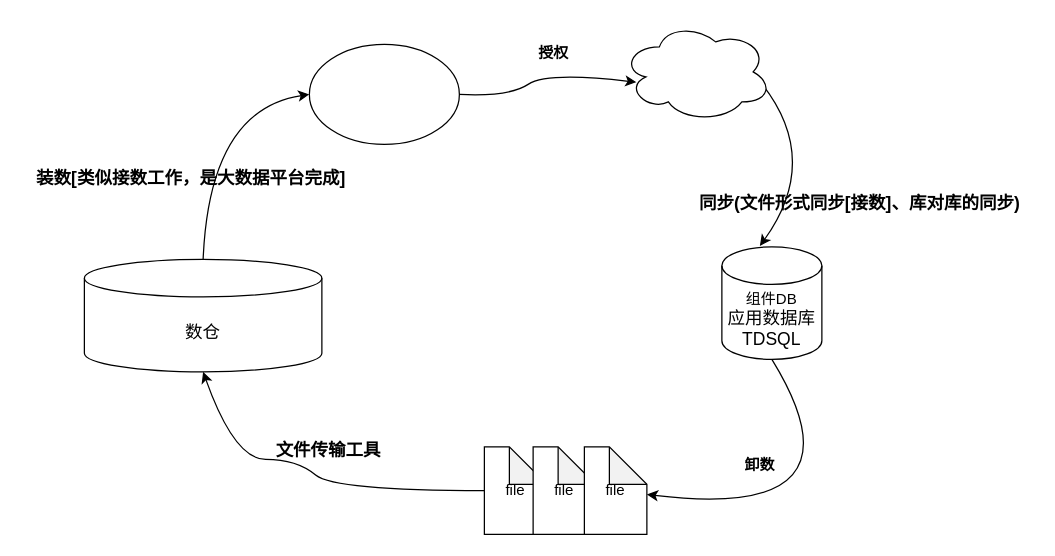
Some shapes in this 1055 by 556 pixel diagram are drawn without their labels. Each missing label, with the box of its shape:
Hadoop计算区 数据批处理: (621, 21, 772, 122)
大数据平台: (308, 43, 459, 144)
